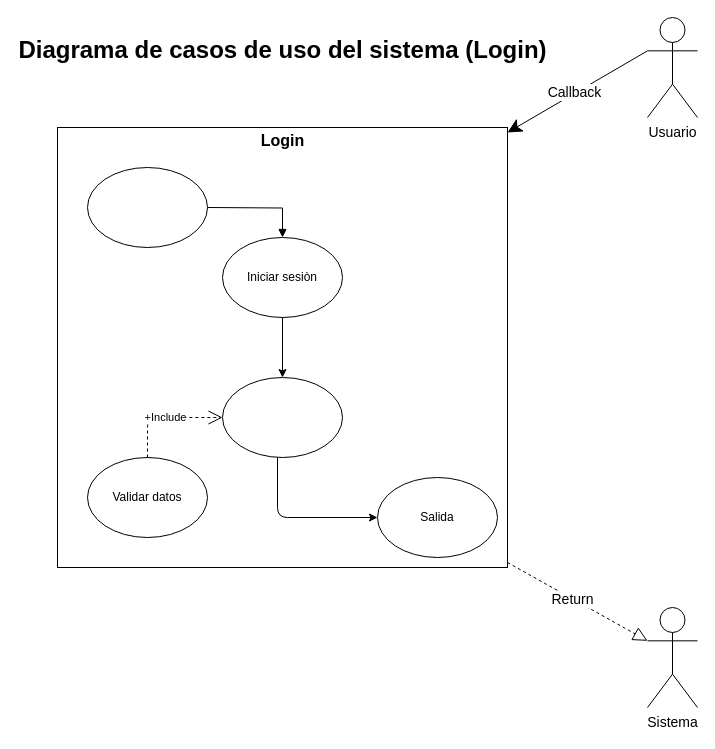
This 715x749 diagram has some shape labels left out. Each missing label, with the centre of its shape:
"El sistema solo genera 2 campos y un botón" goes at point (282, 417).
"Entrada" goes at point (147, 207).
